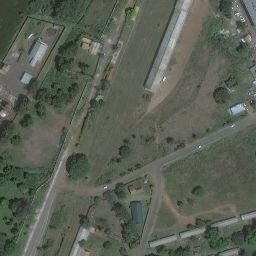tree: (65, 153, 89, 178), (9, 198, 33, 217), (55, 55, 74, 73), (14, 95, 32, 113), (213, 87, 231, 104), (58, 41, 77, 57), (8, 167, 24, 184), (243, 225, 256, 245), (217, 1, 232, 18), (52, 88, 67, 104), (1, 120, 14, 138), (114, 182, 128, 198), (67, 83, 79, 100), (205, 227, 220, 240), (124, 234, 139, 247), (112, 202, 124, 218), (231, 231, 243, 246), (2, 165, 15, 178), (118, 146, 132, 158), (3, 238, 15, 252), (35, 101, 45, 117), (20, 114, 32, 127), (35, 88, 47, 101), (208, 239, 222, 250), (78, 62, 90, 74), (190, 185, 202, 195), (120, 223, 130, 235), (122, 212, 131, 225), (11, 135, 22, 145), (125, 7, 136, 17), (220, 237, 231, 247), (1, 196, 9, 209), (100, 80, 110, 90), (45, 94, 54, 104), (235, 42, 244, 51), (89, 99, 98, 108), (103, 241, 112, 249), (79, 218, 88, 226), (196, 219, 204, 227), (175, 200, 182, 206), (186, 224, 192, 229), (204, 220, 210, 224), (192, 225, 197, 229)
